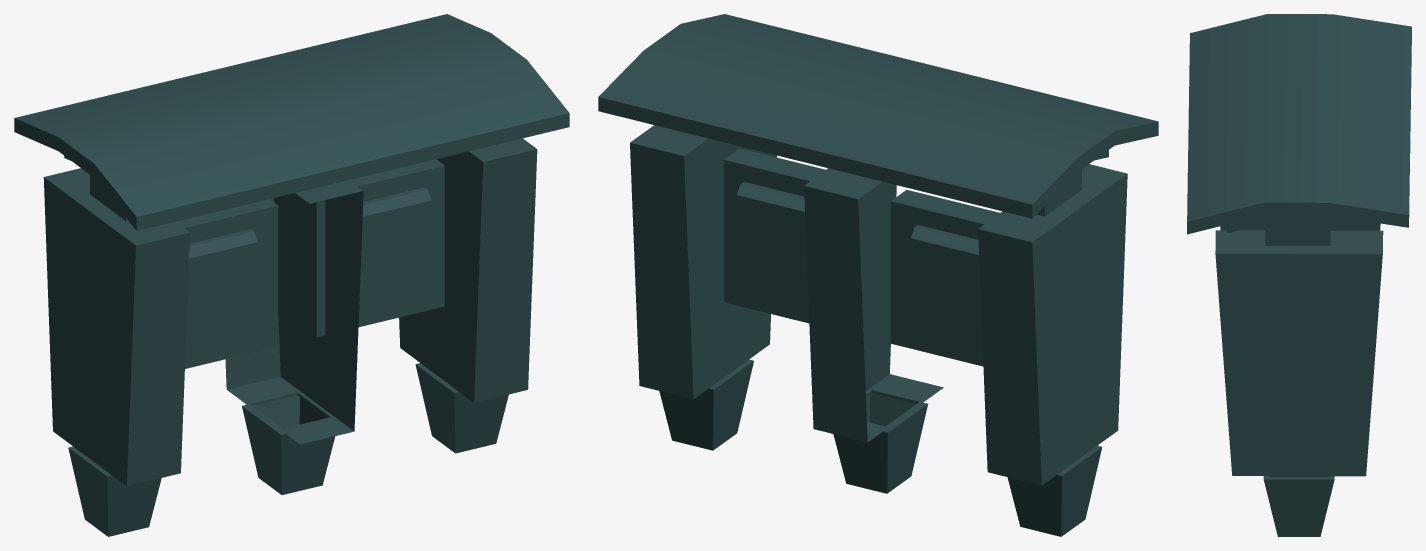
File: 15 Phone booth.FBX
The picture shows the model from 3 angles, left to right: view 1: azimuth 30°, elevation 25°; view 2: azimuth 150°, elevation 25°; view 3: azimuth 270°, elevation 25°; orthographic projection. The views are drawn at different scales.
Visible parts, largest first — view 1: Phone booth_1; view 2: Phone booth_1; view 3: Phone booth_1.
Part boxes in pixels (<box>): Phone booth_1: <box>14,14,569,536</box>; Phone booth_1: <box>598,14,1158,536</box>; Phone booth_1: <box>1187,14,1411,536</box>.
Size of the model in its own units: 716 by 607 by 360.
